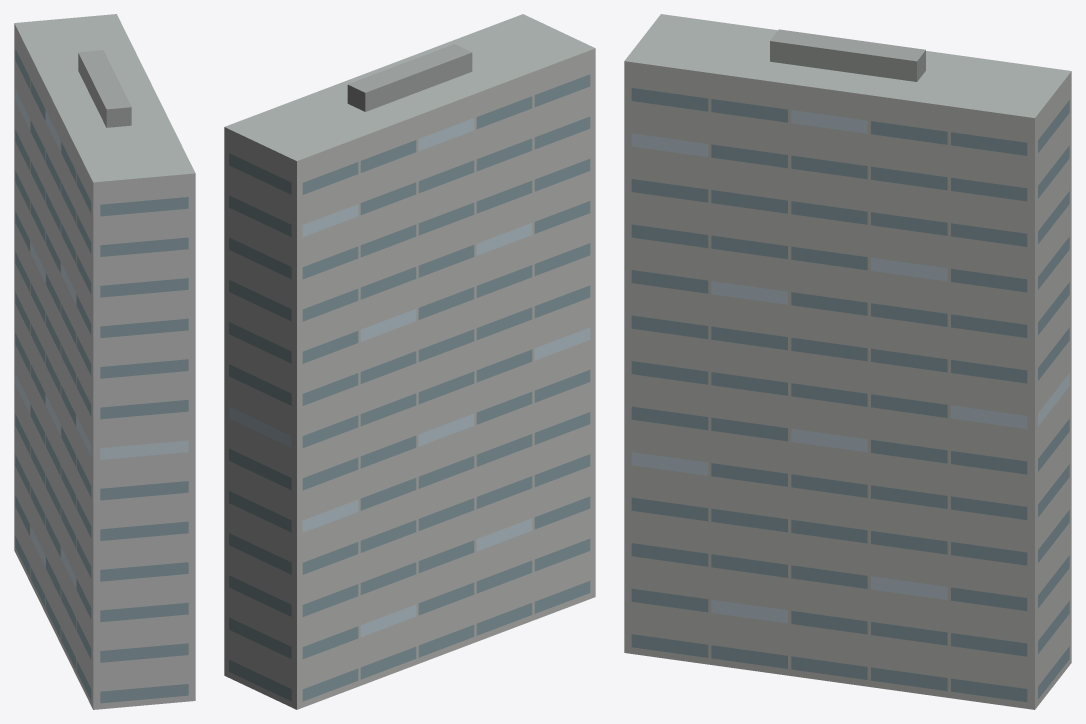
File: fallback-jamsil-els-107.glb
The picture shows the model from 3 angles, left to right: view 1: azimuth 30°, elevation 25°; view 2: azimuth 150°, elevation 25°; view 3: azimuth 270°, elevation 25°; orthographic projection. The views are drawn at different scales.
Visible parts, largest first — view 1: fallback-jamsil-els-107; view 2: fallback-jamsil-els-107; view 3: fallback-jamsil-els-107.
Part boxes in pixels (x1,y1,x2,y2): fallback-jamsil-els-107: [14, 14, 195, 709]; fallback-jamsil-els-107: [224, 14, 595, 709]; fallback-jamsil-els-107: [624, 14, 1071, 709].
Bounding box in the file's own units: 25.9 × 71 × 47.
